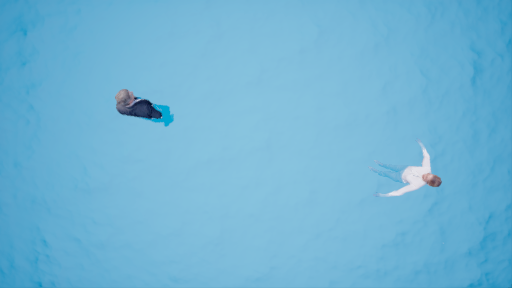person: (371, 140, 443, 200), (113, 85, 177, 128)
